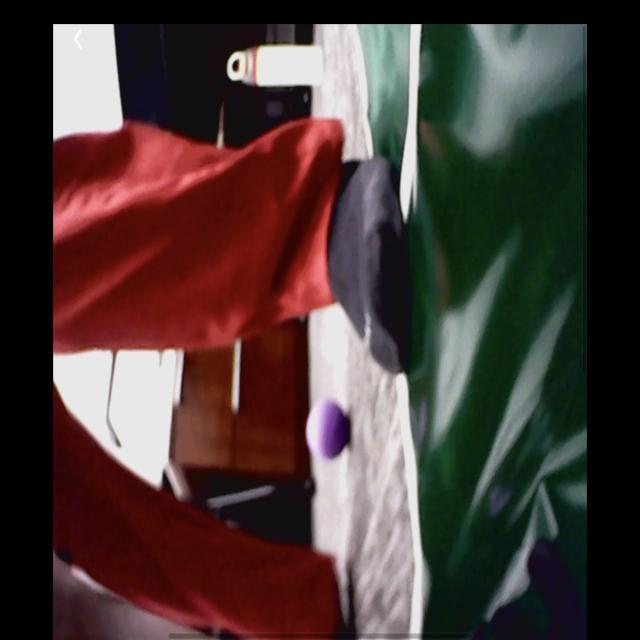ball: (305, 397, 351, 466)
